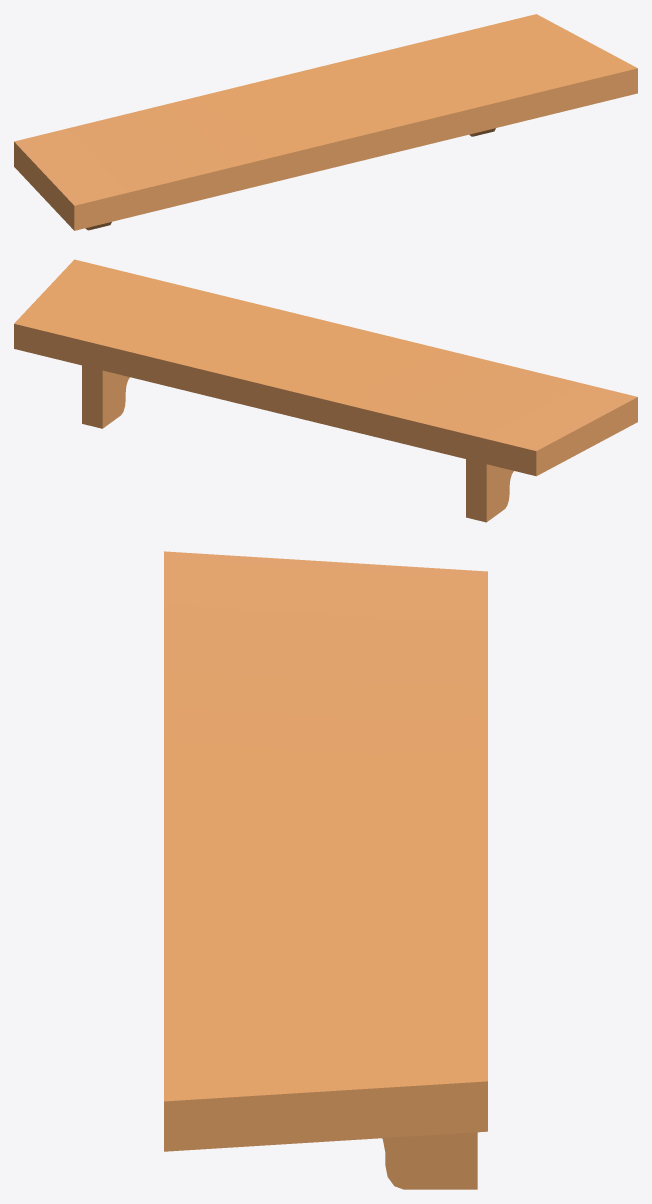
The model's file is raf.fbx.
3 renders of one model, top to bottom at view 1: azimuth 30°, elevation 25°; view 2: azimuth 150°, elevation 25°; view 3: azimuth 270°, elevation 25°, orthographic. The views are drawn at different scales.
Parts seen in each view (by area): view 1: Cube.035; view 2: Cube.035; view 3: Cube.035.
Part boxes in pixels (bbox=[...]): Cube.035: bbox=[14, 14, 637, 230]; Cube.035: bbox=[14, 259, 637, 522]; Cube.035: bbox=[164, 551, 487, 1189].
Size of the model in its own units: 334 by 83.23 by 48.79.
